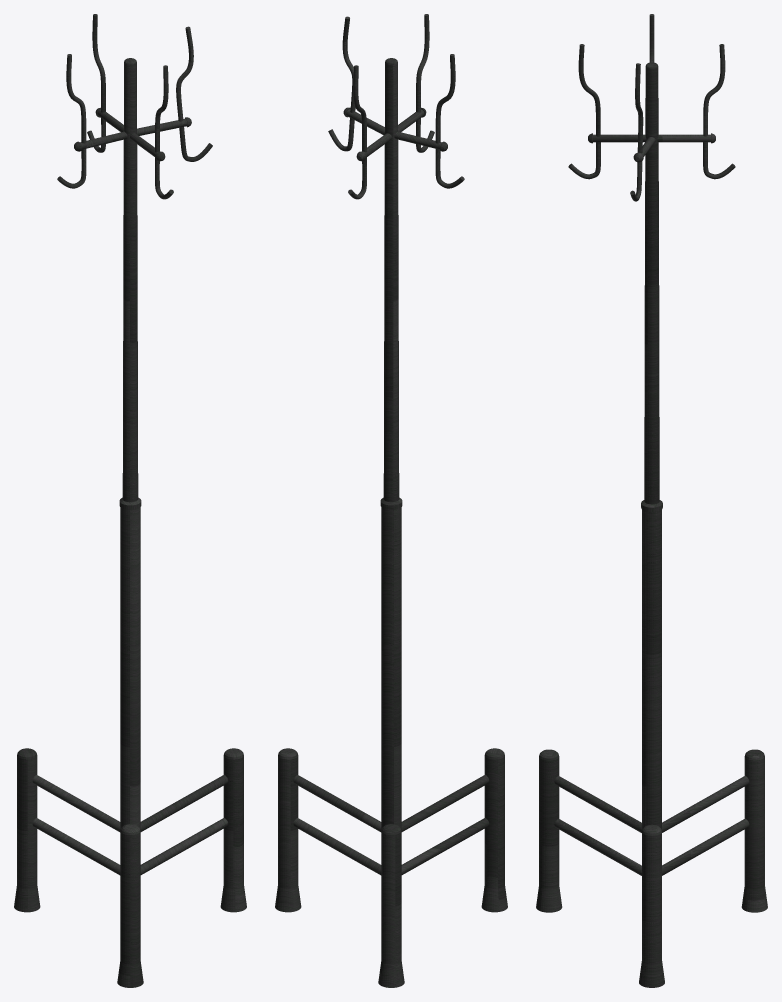
File: coat_rack.glb
The picture shows the model from 3 angles, left to right: view 1: azimuth 30°, elevation 25°; view 2: azimuth 150°, elevation 25°; view 3: azimuth 270°, elevation 25°; orthographic projection.
Visible parts, largest first — view 1: CoatRackMesh; view 2: CoatRackMesh; view 3: CoatRackMesh.
Boxes of the visible parts, <box> form: CoatRackMesh: <box>14,14,246,987</box>; CoatRackMesh: <box>275,14,507,987</box>; CoatRackMesh: <box>536,14,767,987</box>.
Bounding box in the file's own units: 0.4272 × 1.95 × 0.4597.
1 material, 1 textured.
